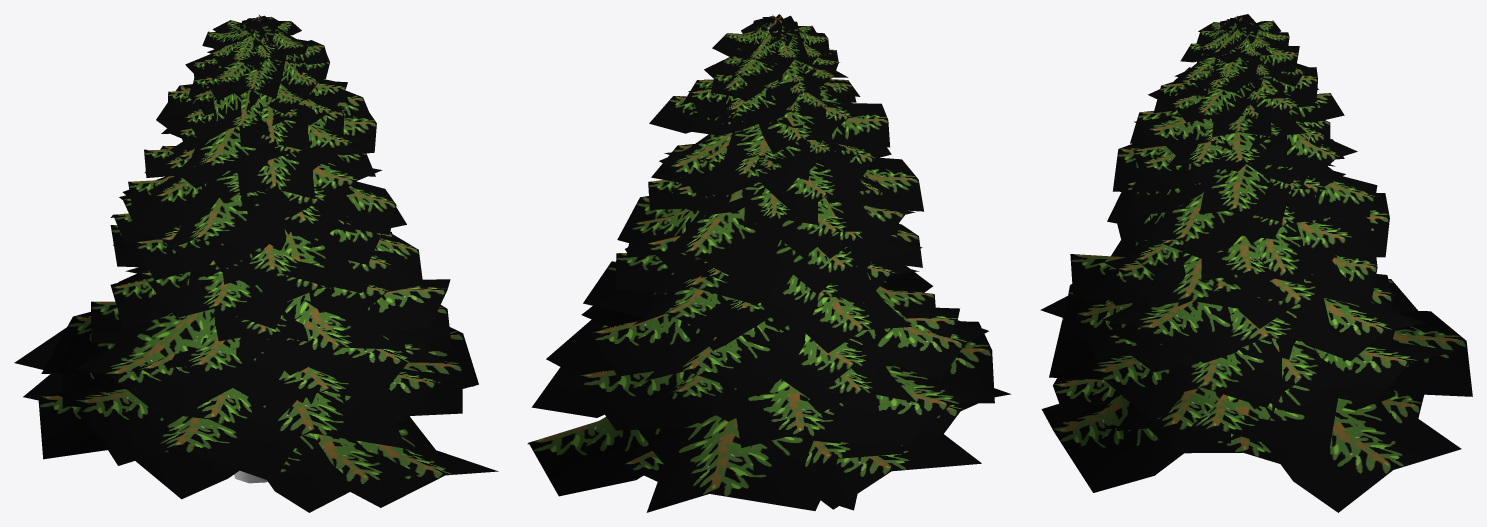
The model's file is pine.fbx.
3 views of the same model, side by side, from view 1: azimuth 30°, elevation 25°; view 2: azimuth 150°, elevation 25°; view 3: azimuth 270°, elevation 25° (orthographic). The views are drawn at different scales.
Visible parts, largest first — view 1: Leaf.001; view 2: Leaf.001; view 3: Leaf.001.
Part boxes in pixels (x1,y1,x2,y2): Leaf.001: (14,15,498,512); Leaf.001: (527,14,1011,512); Leaf.001: (1040,14,1472,512).
Size of the model in its own units: 21.01 by 22.27 by 20.6.
